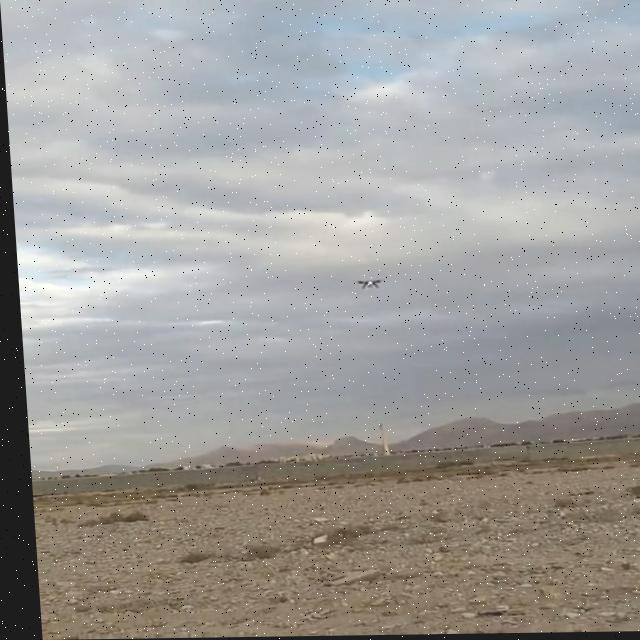drone: (350, 274, 384, 294)
